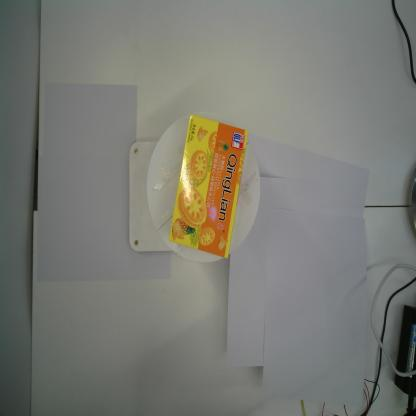Dessert: (169, 114, 249, 260)
